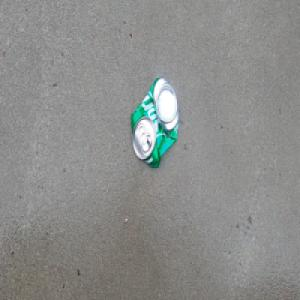SodaCan: (129, 74, 180, 170)
